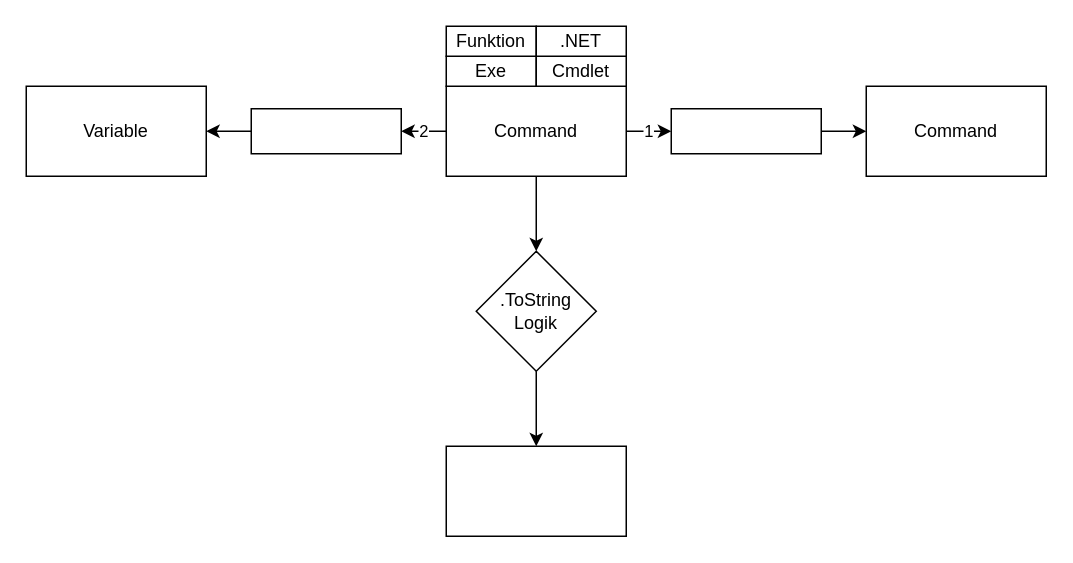
Some shapes in this 1073 by 563 pixel diagram are drawn without their labels. Here are the shapes that lost their labels. From the top down, the centre of each, then its label:
point (325, 130): Zuweisung
point (745, 130): Pipeline
point (535, 490): Out-Console
